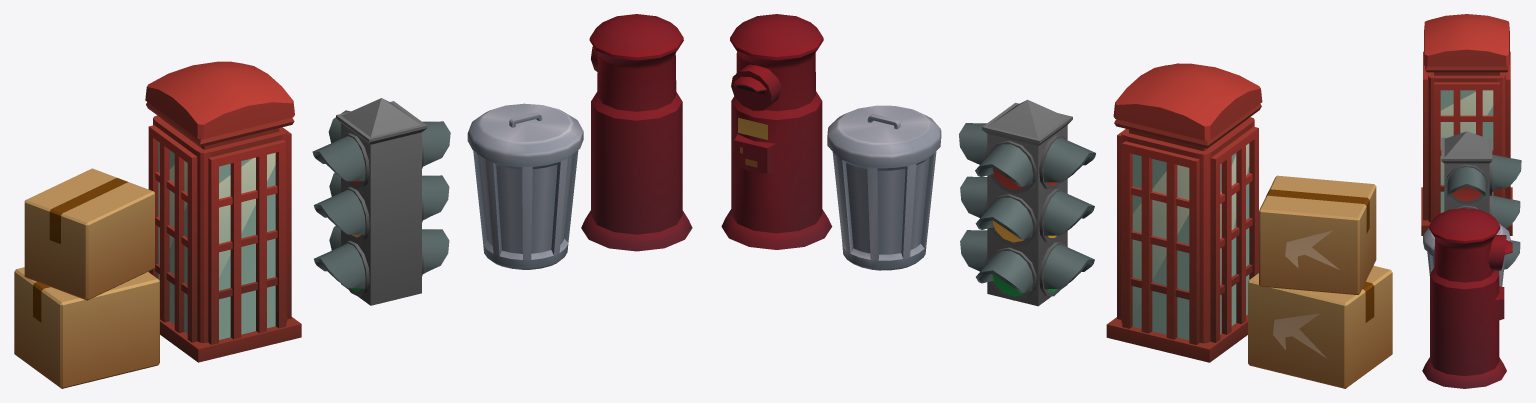
File: End_t1_a4.fbx
3 renders of one model, left to right at view 1: azimuth 30°, elevation 25°; view 2: azimuth 150°, elevation 25°; view 3: azimuth 270°, elevation 25°, orthographic. The views are drawn at different scales.
Visible parts, largest first — view 1: End_t1_a4_v4, End_t1_a4_v2, End_t1_a4_v5, End_t1_a4_v3, End_t1_a4_v1; view 2: End_t1_a4_v4, End_t1_a4_v2, End_t1_a4_v3, End_t1_a4_v5, End_t1_a4_v1; view 3: End_t1_a4_v4, End_t1_a4_v3, End_t1_a4_v5, End_t1_a4_v1.
Part boxes in pixels (x1,y1,x2,y2): End_t1_a4_v4: (145,61,301,362); End_t1_a4_v2: (14,168,159,388); End_t1_a4_v5: (312,98,450,305); End_t1_a4_v3: (581,14,692,251); End_t1_a4_v1: (467,103,583,269); End_t1_a4_v4: (1106,63,1262,362); End_t1_a4_v2: (1248,175,1392,388); End_t1_a4_v3: (721,14,832,249); End_t1_a4_v5: (959,99,1095,306); End_t1_a4_v1: (827,105,941,270); End_t1_a4_v4: (1421,14,1512,235); End_t1_a4_v3: (1422,208,1512,388); End_t1_a4_v5: (1441,131,1521,269); End_t1_a4_v1: (1423,224,1510,286).
Size of the model in its own units: 18.7 by 7.11 by 3.29.
